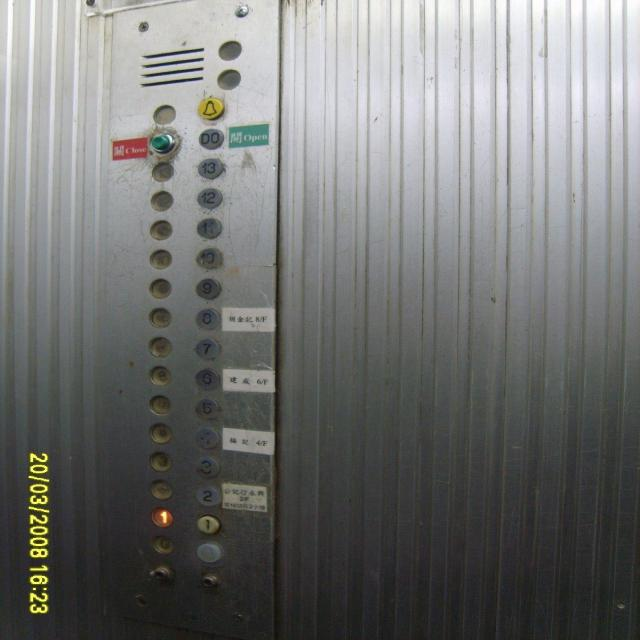1: (149, 507, 174, 528), (196, 514, 220, 534)
10: (194, 248, 222, 269), (150, 248, 172, 270)
11: (194, 218, 222, 238)
12: (196, 187, 222, 208), (149, 190, 173, 211)
13: (198, 158, 224, 180), (151, 162, 174, 183)
2: (194, 486, 221, 506)
3: (194, 456, 220, 478), (147, 452, 172, 471)
4: (195, 426, 220, 450)
5: (194, 398, 219, 418)
6: (195, 368, 221, 390)
7: (194, 338, 221, 359)
8: (194, 308, 220, 329)
9: (193, 278, 220, 299)
DO: (198, 128, 223, 149)
G: (194, 542, 221, 563), (150, 535, 173, 554)
alarm: (196, 96, 223, 120)
blur: (147, 306, 173, 329), (146, 336, 172, 358), (148, 365, 172, 387), (149, 219, 172, 241), (149, 277, 172, 299), (149, 422, 172, 443), (148, 394, 171, 414), (149, 479, 172, 499)
empty: (216, 68, 241, 90), (216, 40, 242, 61), (150, 132, 175, 153), (152, 104, 176, 125)
